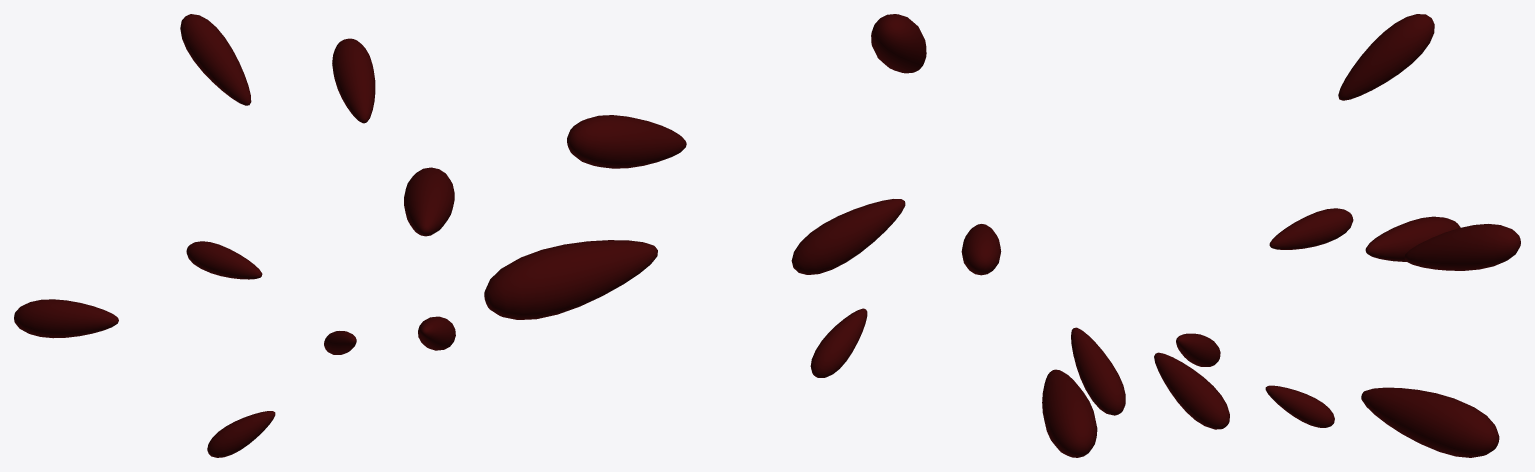
3 views of the same model, side by side, from view 1: azimuth 30°, elevation 25°; view 2: azimuth 150°, elevation 25°; view 3: azimuth 270°, elevation 25° (orthographic). The views are drawn at different scales.
Parts seen in each view (by area): view 1: Blood_Splash_3D; view 2: Blood_Splash_3D; view 3: Blood_Splash_3D.
Boxes of the visible parts, left/top/right/bottom form: Blood_Splash_3D: left=14, top=14, right=455, bottom=457; Blood_Splash_3D: left=484, top=14, right=1125, bottom=457; Blood_Splash_3D: left=1154, top=14, right=1520, bottom=457.
Size of the model in its own units: 3.85 by 2.93 by 2.51.
